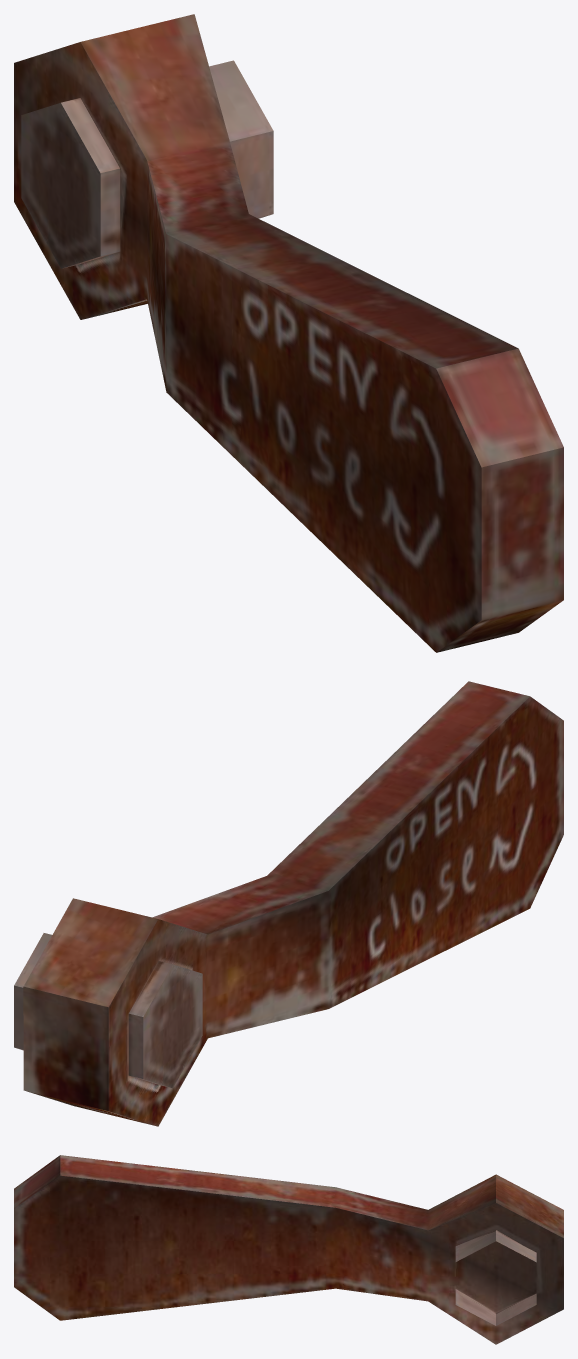
The model's file is stylized_pipe_04.glb.
3 views of the same model, one above another, from view 1: azimuth 30°, elevation 25°; view 2: azimuth 150°, elevation 25°; view 3: azimuth 270°, elevation 25° (orthographic). The views are drawn at different scales.
Visible parts, largest first — view 1: stylized_pipe_04; view 2: stylized_pipe_04; view 3: stylized_pipe_04.
Part boxes in pixels (x1,y1,x2,y2): stylized_pipe_04: (14,14,563,652); stylized_pipe_04: (14,681,563,1126); stylized_pipe_04: (14,1155,563,1344).
Size of what is drawn, in the model's own units: 0.0385 by 0.0465 by 0.1597.
1 material, 1 textured.
